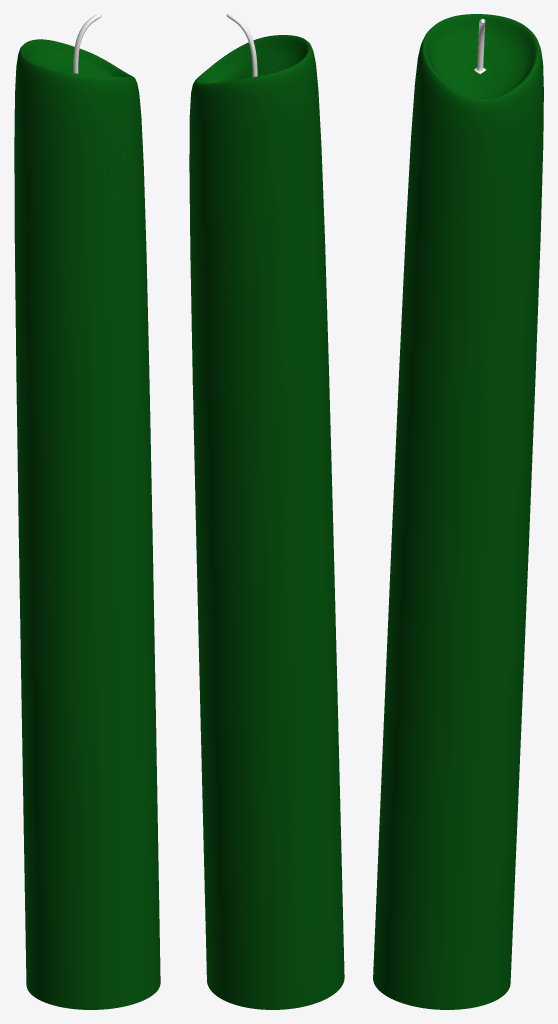
File: green-candle.glb
3 renders of one model, left to right at view 1: azimuth 30°, elevation 25°; view 2: azimuth 150°, elevation 25°; view 3: azimuth 270°, elevation 25°, orthographic. The views are drawn at different scales.
Parts seen in each view (by area): view 1: candle; view 2: candle; view 3: candle.
Part boxes in pixels (x1,y1,x2,y2): candle: (14, 14, 160, 1009); candle: (189, 14, 344, 1009); candle: (373, 14, 543, 1009).
Bounding box in the file's own units: 0.9079 × 7.01 × 1.11.
